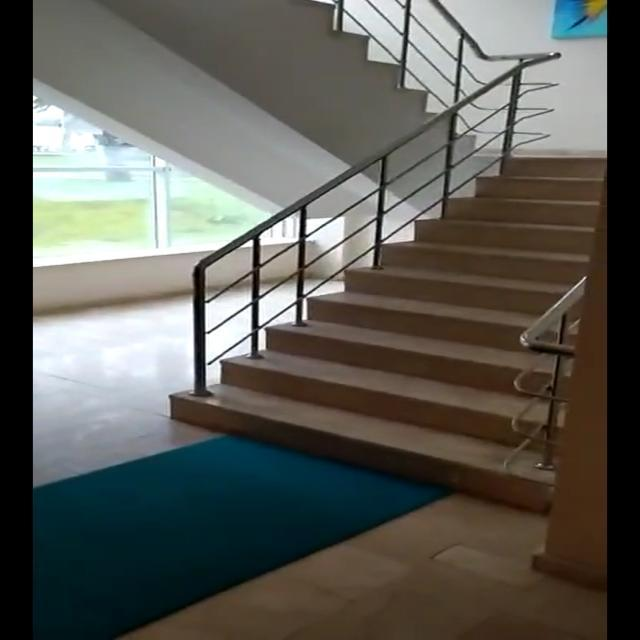stairs: (168, 153, 606, 509)
